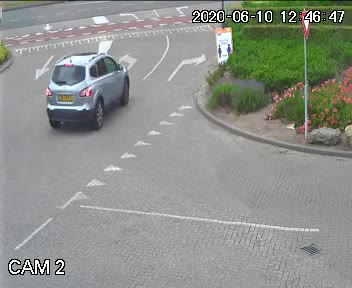car: (36, 41, 133, 135)
